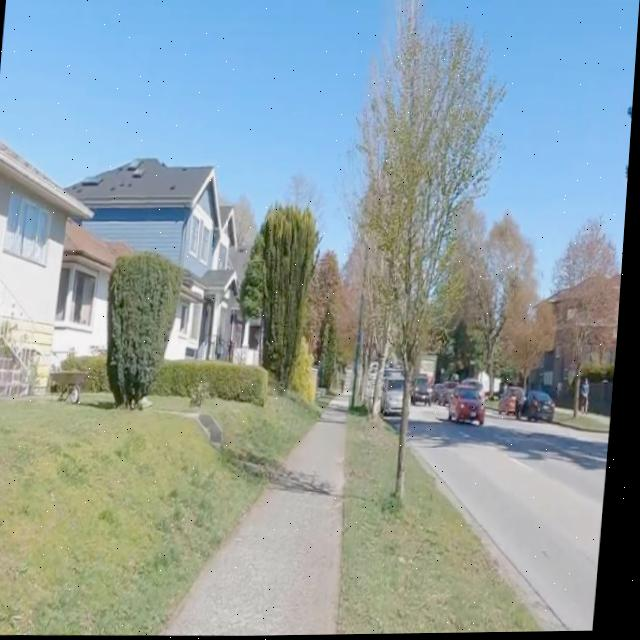Automobile: (455, 381, 489, 426), (526, 391, 559, 422), (386, 373, 408, 416), (437, 381, 463, 406), (504, 389, 526, 416), (417, 374, 434, 405)
Road: (416, 406, 615, 633)
Sidewalk: (174, 412, 350, 636)
